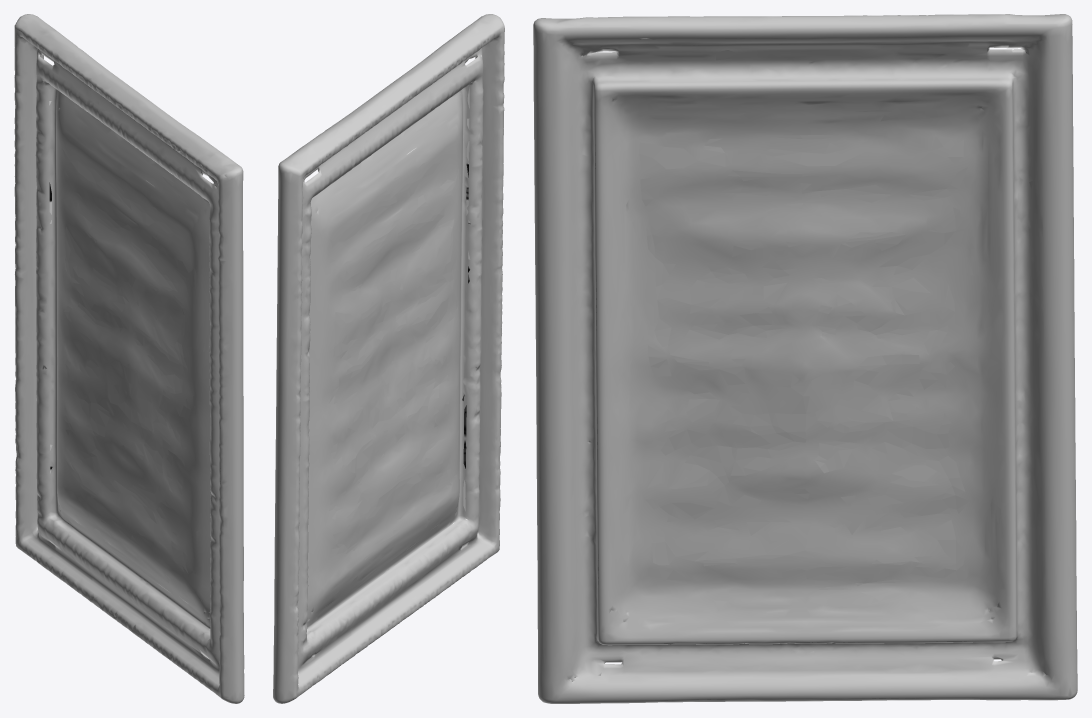
The model's file is cont1.obj.
The picture shows the model from 3 angles, left to right: view 1: azimuth 30°, elevation 25°; view 2: azimuth 150°, elevation 25°; view 3: azimuth 270°, elevation 25°; orthographic projection. The views are drawn at different scales.
Visible parts, largest first — view 1: tripo_node_7710de3c-0a03-4506-86dc-1e5036f6c294.010; view 2: tripo_node_7710de3c-0a03-4506-86dc-1e5036f6c294.010; view 3: tripo_node_7710de3c-0a03-4506-86dc-1e5036f6c294.010.
Boxes of the visible parts, x1,y1,x2,y2 form: tripo_node_7710de3c-0a03-4506-86dc-1e5036f6c294.010: (14,14,244,703); tripo_node_7710de3c-0a03-4506-86dc-1e5036f6c294.010: (273,14,504,703); tripo_node_7710de3c-0a03-4506-86dc-1e5036f6c294.010: (533,14,1077,703).
Bounding box in the file's own units: 0.1179 × 2.14 × 1.55.
